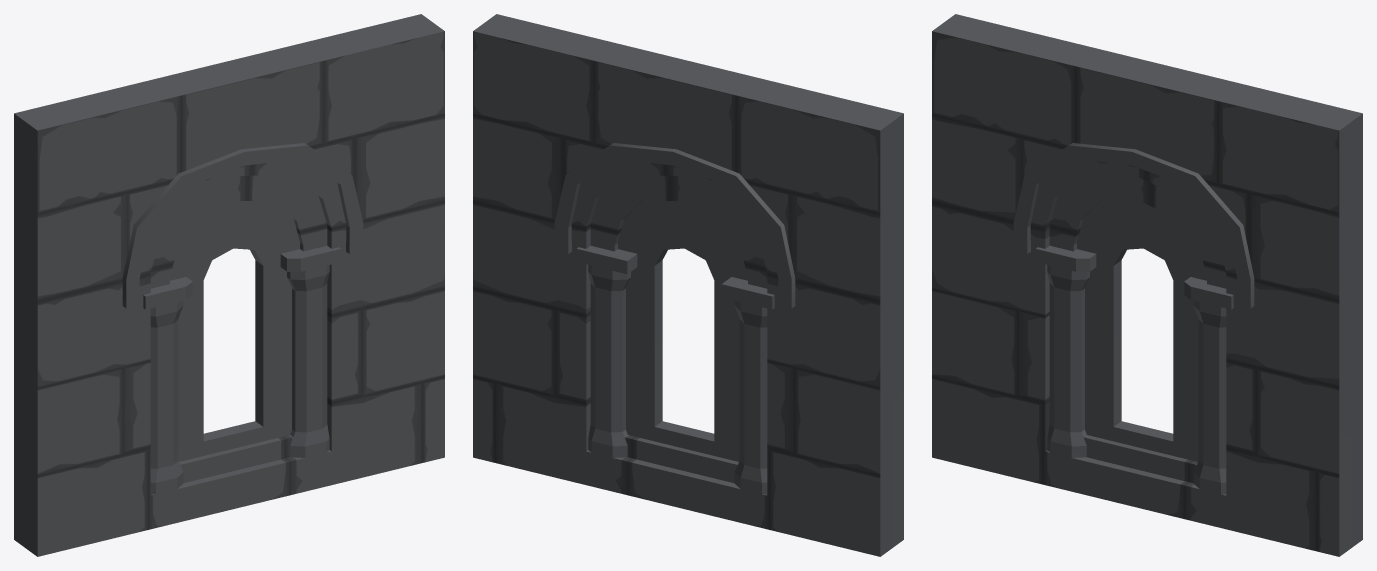
File: castle_wall_window.gltf
3 renders of one model, left to right at view 1: azimuth 30°, elevation 25°; view 2: azimuth 150°, elevation 25°; view 3: azimuth 330°, elevation 25°, orthographic.
Visible parts, largest first — view 1: castle_wall_window; view 2: castle_wall_window; view 3: castle_wall_window.
Boxes of the visible parts, x1,y1,x2,y2 form: castle_wall_window: (14,14,444,556); castle_wall_window: (473,14,903,556); castle_wall_window: (932,14,1362,556).
Bounding box in the file's own units: 5 × 5 × 0.6483.
1 material, 1 textured.
